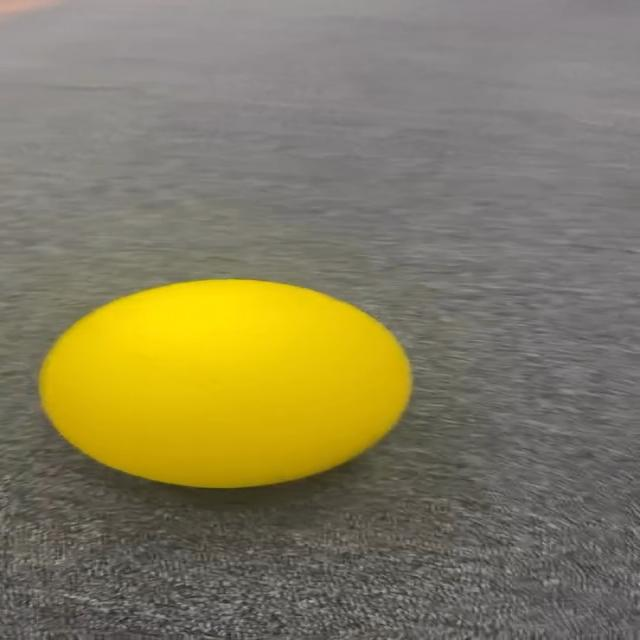Fuels: (40, 285, 409, 492)
